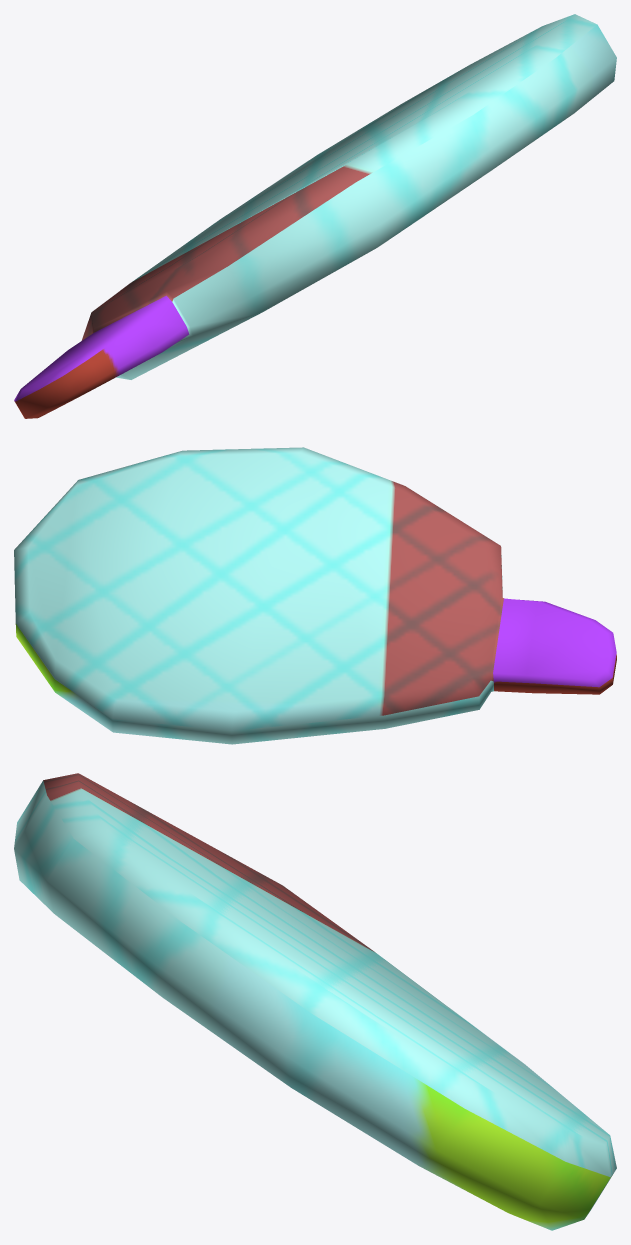
Rendered from me_Bee01-wing02.fbx.
The picture shows the model from 3 angles, top to bottom: view 1: azimuth 30°, elevation 25°; view 2: azimuth 150°, elevation 25°; view 3: azimuth 270°, elevation 25°; orthographic projection. The views are drawn at different scales.
Parts seen in each view (by area): view 1: me_Bee01-wing02; view 2: me_Bee01-wing02; view 3: me_Bee01-wing02.
Boxes of the visible parts, bbox=[...] form: me_Bee01-wing02: bbox=[14, 14, 616, 418]; me_Bee01-wing02: bbox=[14, 447, 616, 744]; me_Bee01-wing02: bbox=[14, 773, 616, 1230].
Size of the model in its own units: 27.22 by 10.28 by 15.83.
Materials: 1 (1 with a texture image).
